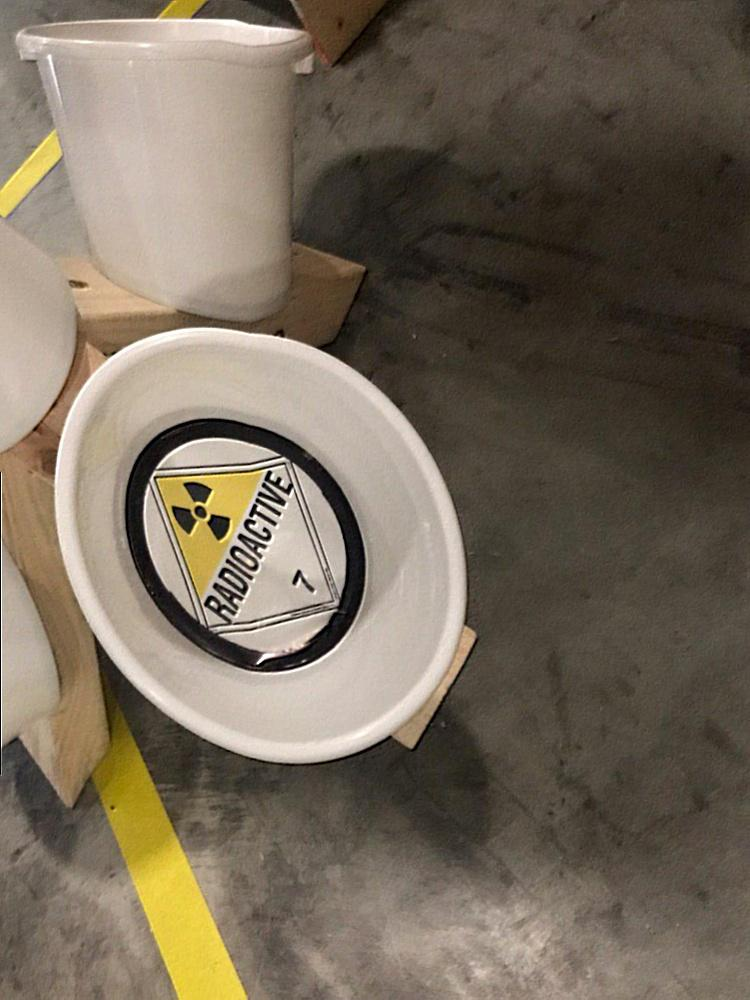radioactive: (144, 422, 349, 657)
